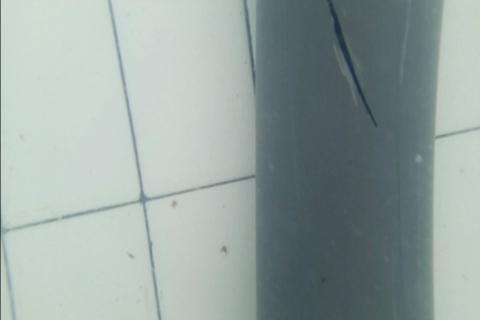keretakan: (326, 0, 379, 131)
